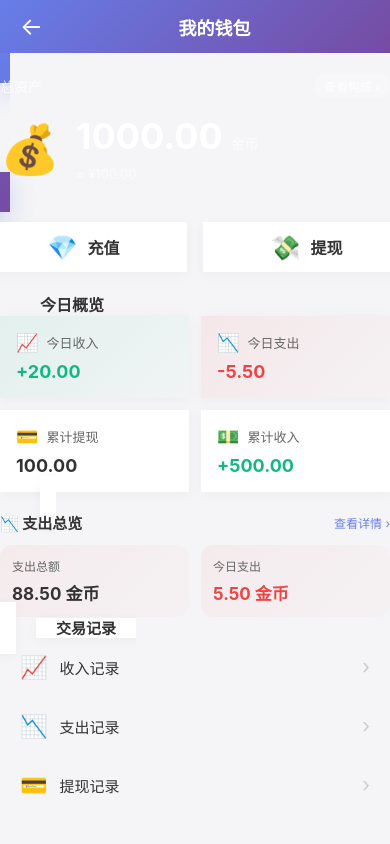
Test: Wallet 支出总览 › 渲染支出总额/今日支出，弹层按与服务端金额展示今日与往期占比
Expected: the element with class "expense-overview-card" shows "88.50", left=12, top=584, right=99, bottom=604
Expected: the element with class "expense-overview-card" shows "5.50", left=213, top=584, right=289, bottom=604
Click the element with class "expense-overview-card" at (48, 502), box left=0, top=476, right=389, bottom=654
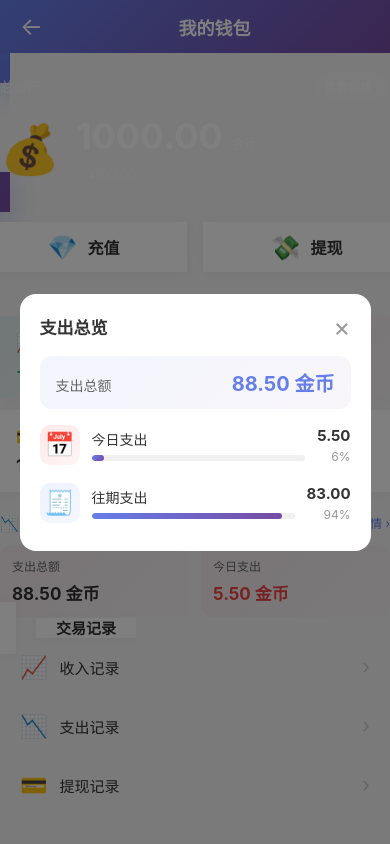
Expected: the element with class "breakdown-sheet" shows "支出总览", left=40, top=318, right=108, bottom=338
Expected: the element with class "breakdown-sheet" shows "88.50", left=232, top=372, right=334, bottom=396
Expected: the number of elements with class "breakdown-item" is 2, left=40, top=424, right=350, bottom=464; left=40, top=482, right=350, bottom=522
